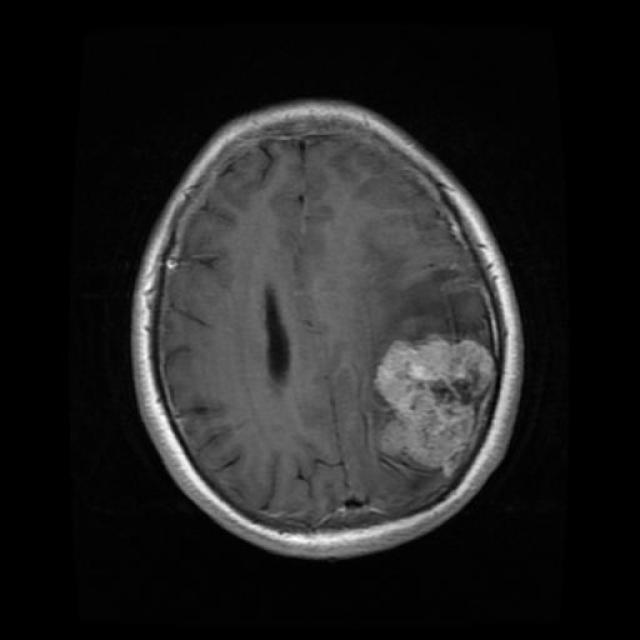Meningioma: (375, 335, 495, 482)
